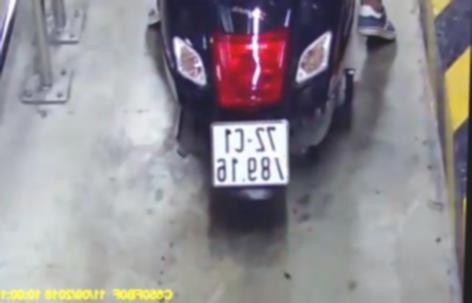License_Plate: (204, 116, 294, 194)
